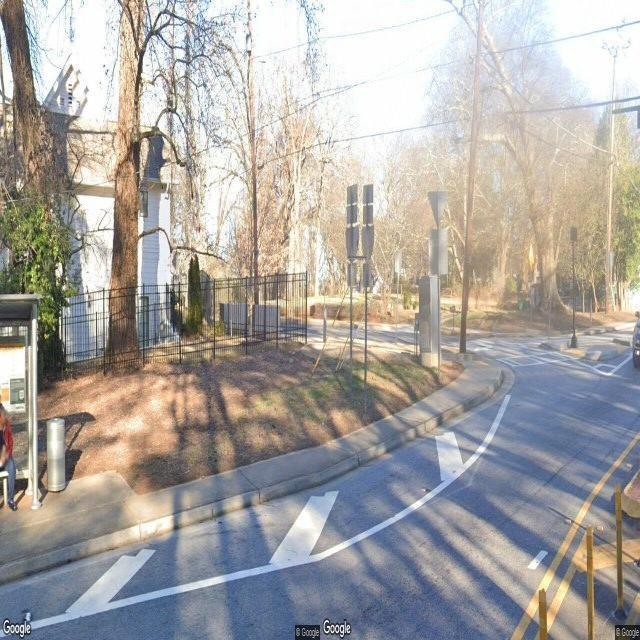seating: (0, 457, 16, 507)
shelter: (0, 292, 42, 518)
trash_can: (46, 417, 66, 493)
